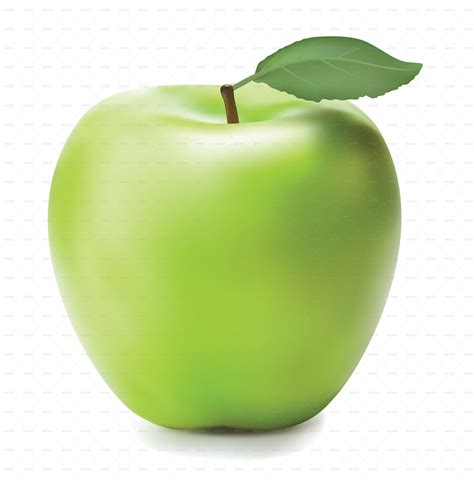apple: (38, 82, 404, 434)
